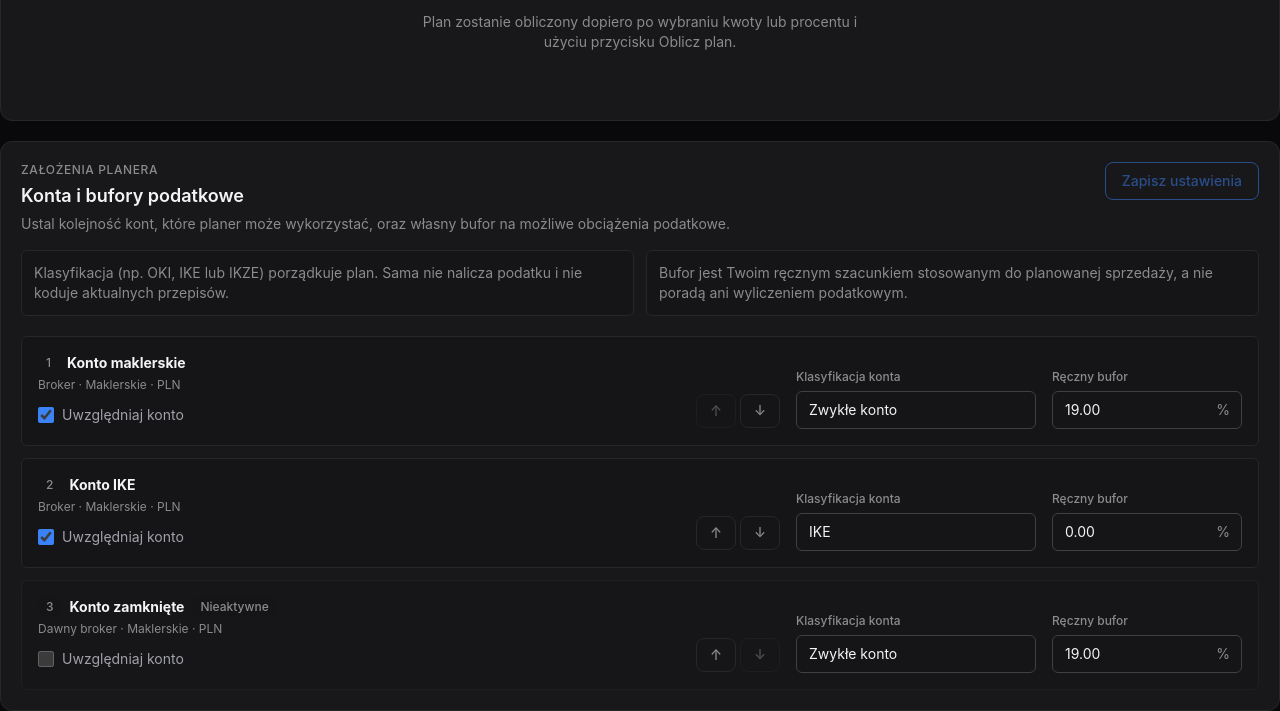
it: PortfolioWithdrawalPlannerSection › forces inactive accounts off and rejects a malformed manual buffer verbatim
(page scrolled)
Check: the text "Nieaktywne" is shown, box [192, 596, 277, 616]
Check: the checkbox labelled "Uwzględniaj konto" below "Dawny broker" is disabled, box [38, 650, 54, 666]
Clear the 1st field labelled "Ręczny bufor" at (1147, 410), box [1052, 390, 1242, 428]
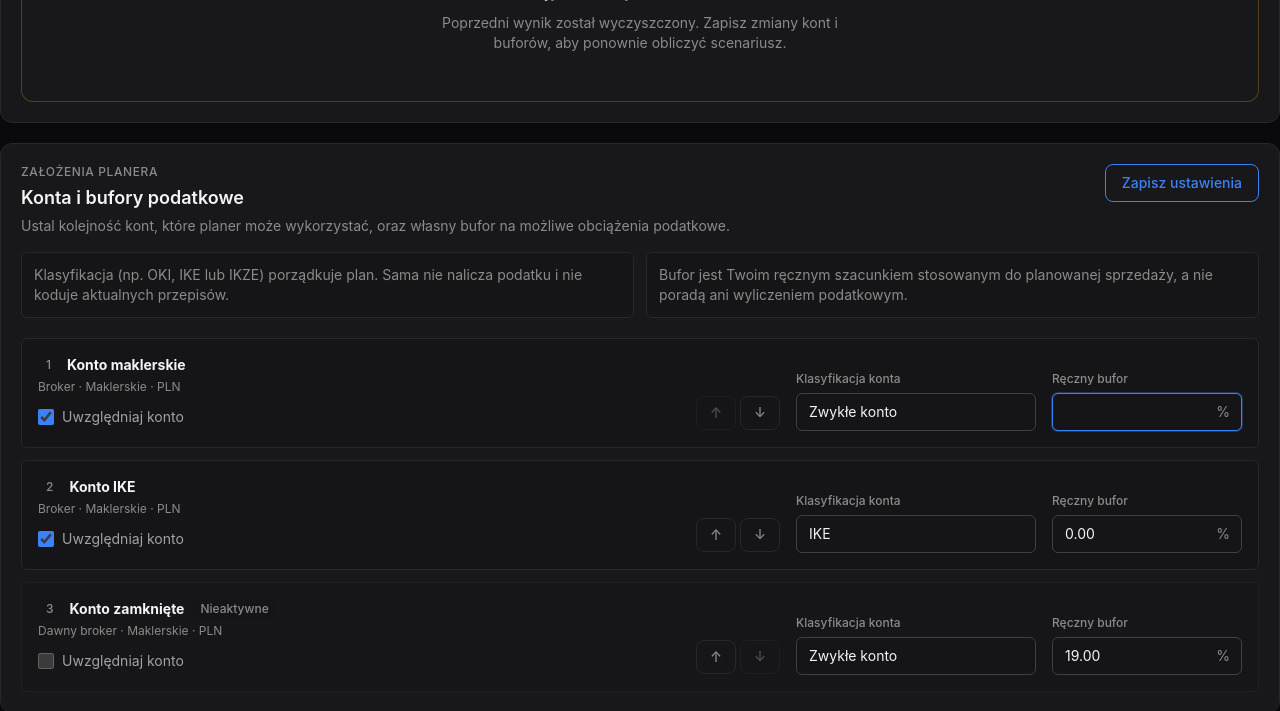
Type "-19" into the 1st field labelled "Ręczny bufor" at (1147, 412), box [1052, 392, 1242, 430]
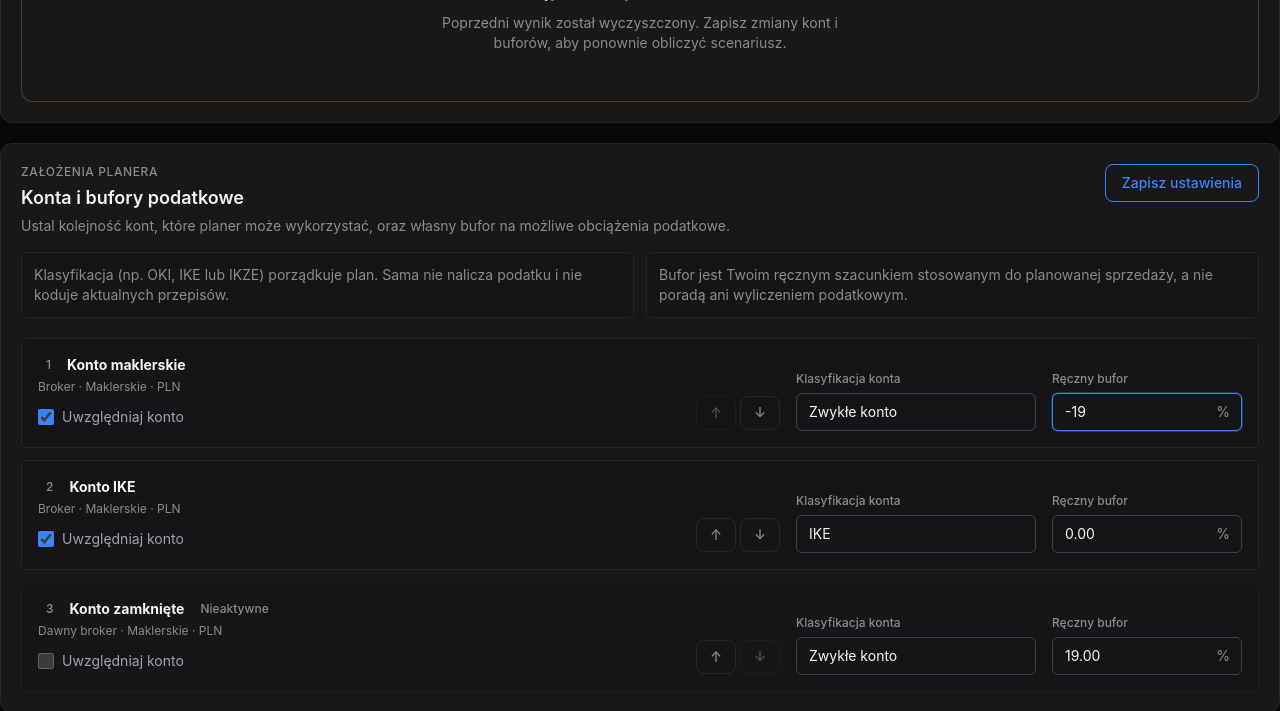
Click the button "Zapisz ustawienia" at (1182, 182), box [1105, 164, 1259, 202]
(page scrolled)
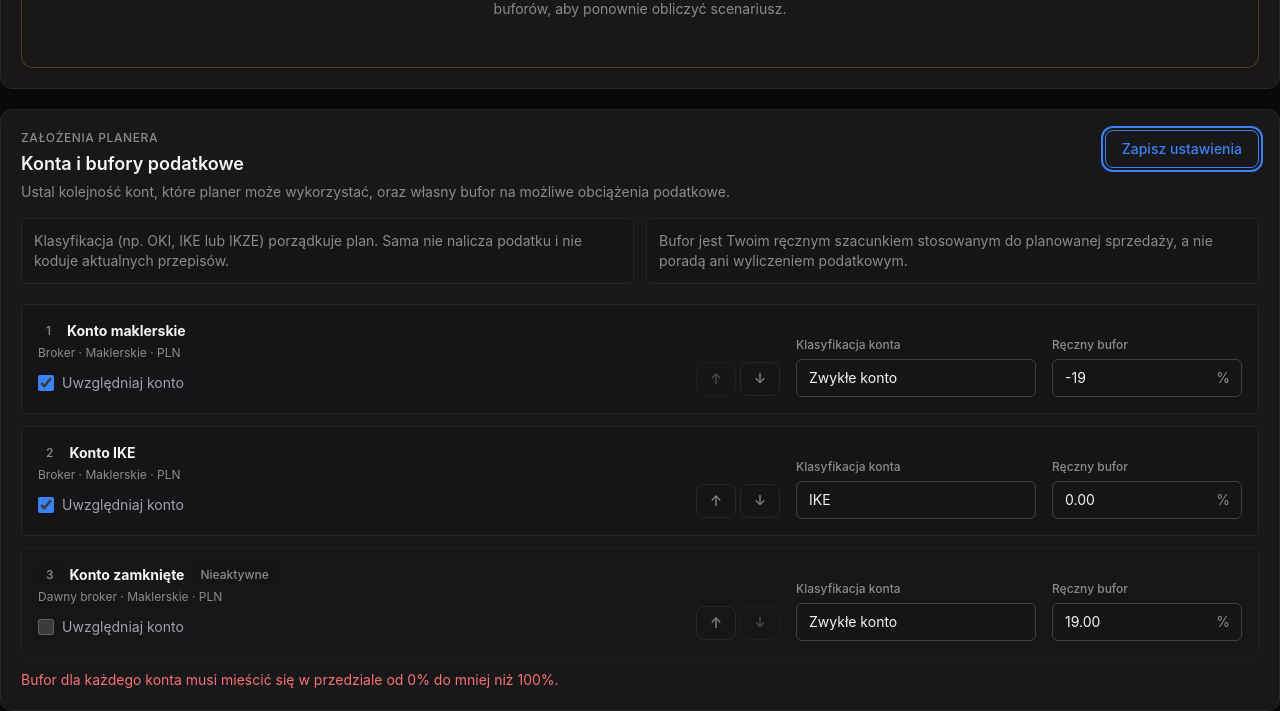
Check: the message shows "Bufor dla każdego konta musi mieścić się", box [21, 670, 559, 688]
